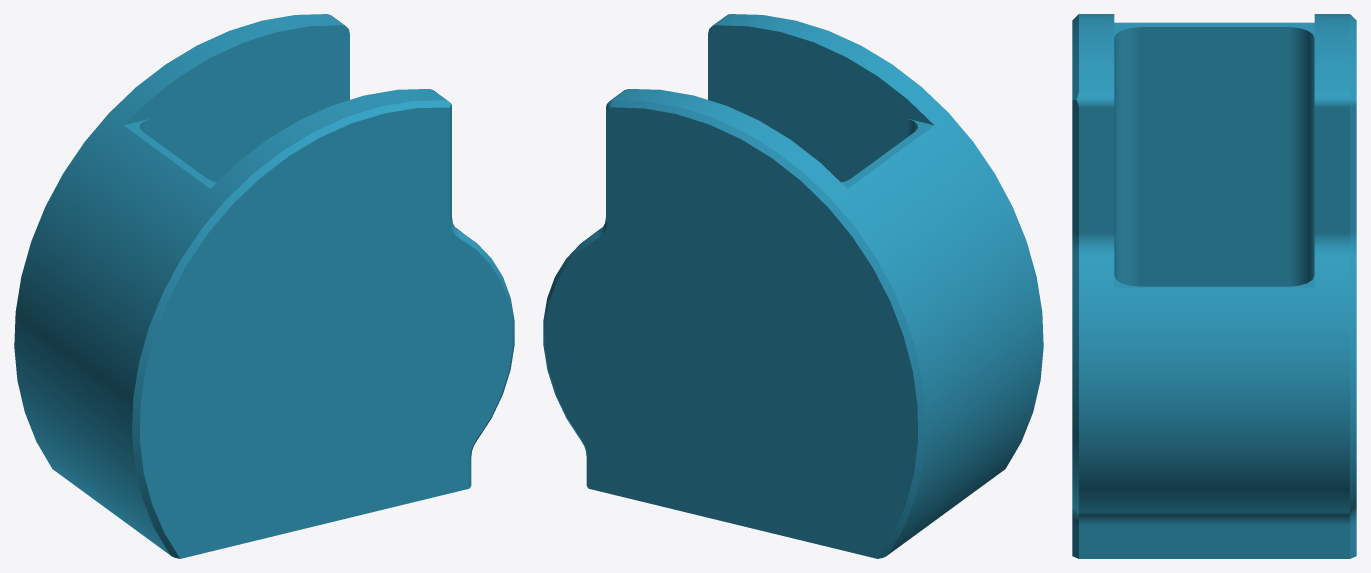
The model's file is shoulder_link.dae.
The picture shows the model from 3 angles, left to right: view 1: azimuth 30°, elevation 25°; view 2: azimuth 150°, elevation 25°; view 3: azimuth 270°, elevation 25°; orthographic projection. The views are drawn at different scales.
Visible parts, largest first — view 1: FBXASC227FBXASC130FBXASC189FBXASC227FBXASC131FBXASC170FBXASC; view 2: FBXASC227FBXASC130FBXASC189FBXASC227FBXASC131FBXASC170FBXASC; view 3: FBXASC227FBXASC130FBXASC189FBXASC227FBXASC131FBXASC170FBXASC.
Part boxes in pixels (x1,y1,x2,y2): FBXASC227FBXASC130FBXASC189FBXASC227FBXASC131FBXASC170FBXASC: (14, 14, 514, 558); FBXASC227FBXASC130FBXASC189FBXASC227FBXASC131FBXASC170FBXASC: (543, 14, 1043, 558); FBXASC227FBXASC130FBXASC189FBXASC227FBXASC131FBXASC170FBXASC: (1072, 14, 1356, 558).
Bounding box in the file's own units: 0.0789 × 0.044 × 0.079.
